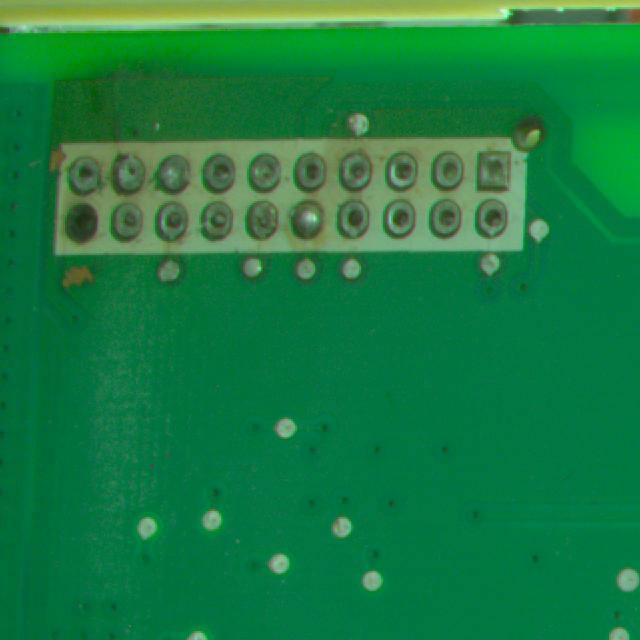Insufficient solder: (199, 147, 239, 195), (65, 152, 105, 199), (109, 150, 152, 193), (475, 146, 513, 192), (473, 197, 512, 240), (64, 203, 102, 247), (428, 199, 465, 243), (335, 200, 372, 241), (292, 150, 327, 193), (338, 152, 375, 192), (245, 201, 280, 243), (200, 198, 235, 239), (386, 148, 418, 192), (382, 197, 416, 238), (253, 150, 284, 192), (431, 150, 464, 189), (157, 201, 190, 240), (112, 204, 146, 237)
